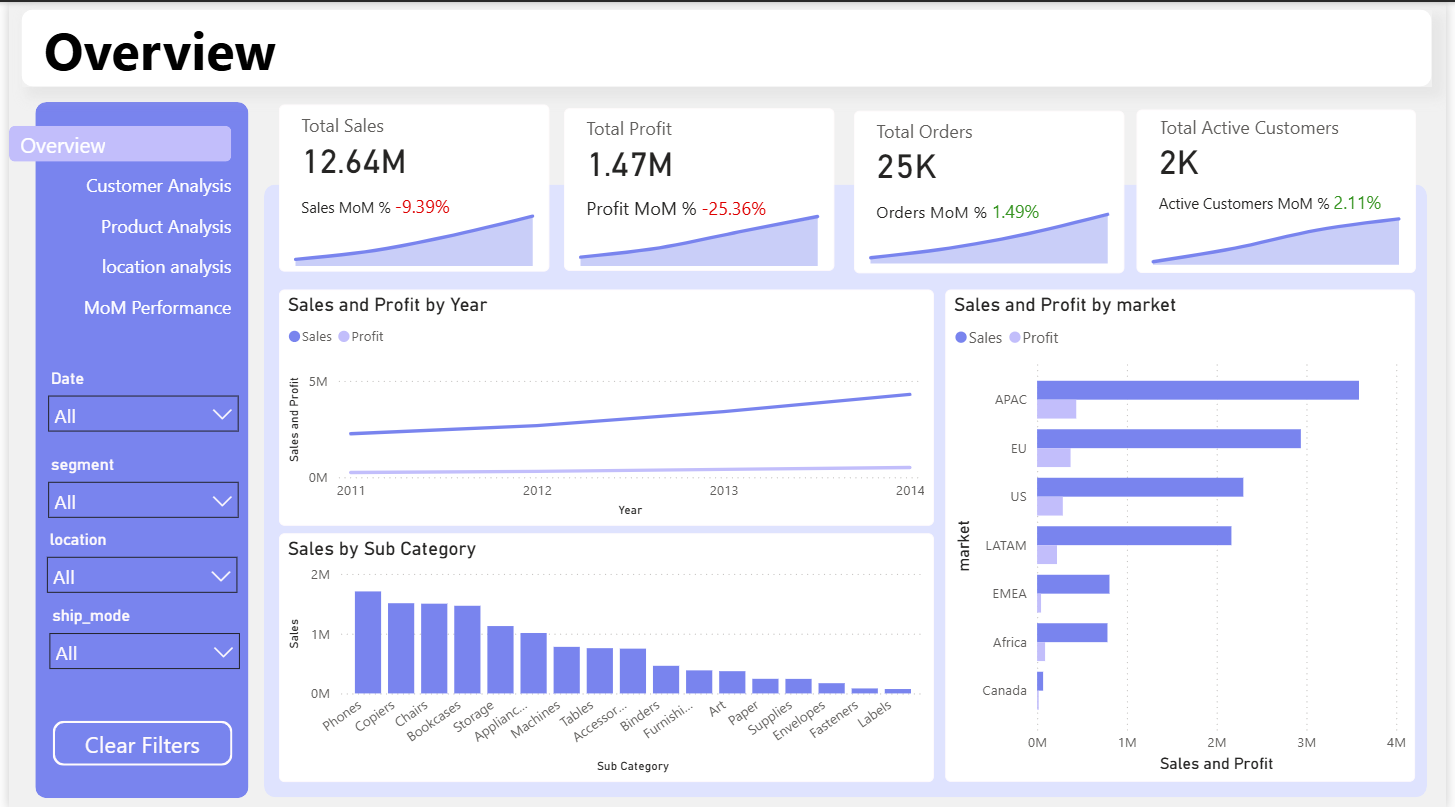

This screenshot's page, from the dashboard's own definition file:
{"tool":"powerbi","page":{"name":"Overview","canvas":[1280,720],"ordinal":0},"visuals":[{"type":"shape","box":[22.9,88.6,190,620],"z":0},{"type":"shape","box":[11.4,7.1,1255.7,68.6],"z":1000},{"type":"shape","box":[227.1,162.9,1035.7,545.7],"z":2000},{"type":"pageNavigator","box":[0,110,198.6,180],"z":3000},{"type":"slicer","fields":{"Values":["dim_customer.segment"]},"box":[24.3,398.6,190,67.1],"z":4000},{"type":"slicer","fields":{"Values":["dim_location.market Hierarchy.market","dim_location.market Hierarchy.country","dim_location.market Hierarchy.region","dim_location.market Hierarchy.state","dim_location.market Hierarchy.city"]},"box":[22.9,465.7,190,67.1],"z":5000},{"type":"slicer","fields":{"Values":["dim_date.Date.Variation.Date Hierarchy.Year","dim_date.Date.Variation.Date Hierarchy.Quarter","dim_date.Date.Variation.Date Hierarchy.Month","dim_date.Date.Variation.Date Hierarchy.Day"]},"box":[24.3,321.4,190,75.7],"z":6000},{"type":"actionButton","box":[38.6,640,160,40],"z":7000},{"type":"group","id":"g1","title":"Group 1","box":[240,91.1,241.1,148.9],"z":8000},{"type":"cardVisual","fields":{"Data":["_measure.total_sales"]},"box":[240,91.1,241.1,148.9],"z":8000,"group":"g1"},{"type":"group","id":"g2","title":"Group 3","box":[494.3,94.3,241.3,145.7],"z":9000},{"type":"cardVisual","fields":{"Data":["_measure.total_orders"]},"box":[752.7,96.4,241.1,144.4],"z":9000,"group":"g3"},{"type":"cardVisual","fields":{"Data":["_measure.total_active_customers"]},"box":[1004.5,95.5,248.9,145.6],"z":10000,"group":"g4"},{"type":"group","id":"g3","title":"Group 2","box":[752.7,96.4,241.2,144.4],"z":10000},{"type":"group","id":"g4","title":"Group 4","box":[1004.5,95.5,248.9,145.6],"z":11000},{"type":"areaChart","fields":{"Category":["dim_date.Date.Variation.Date Hierarchy.Year","dim_date.Date.Variation.Date Hierarchy.Month"],"Y":["_measure.total_sales"]},"box":[240,163.3,241.1,76.7],"z":11000,"group":"g1"},{"type":"areaChart","fields":{"Category":["dim_date.Date.Variation.Date Hierarchy.Year","dim_date.Date.Variation.Date Hierarchy.Month"],"Y":["_measure.total_orders"]},"box":[752.8,161.5,241.1,76.7],"z":12000,"group":"g3"},{"type":"clusteredBarChart","fields":{"Category":["dim_location.market Hierarchy.market","dim_location.market Hierarchy.country","dim_location.market Hierarchy.region","dim_location.market Hierarchy.state","dim_location.market Hierarchy.city"],"Y":["_measure.total_sales","_measure.total_profit"]},"box":[834.3,255.7,418.6,438.6],"z":12000},{"type":"areaChart","fields":{"Category":["dim_date.Date.Variation.Date Hierarchy.Year","dim_date.Date.Variation.Date Hierarchy.Month"],"Y":["_measure.total_active_customers"]},"box":[1004.5,162.8,248.9,76.7],"z":13000,"group":"g4"},{"type":"lineChart","fields":{"Category":["dim_date.Date.Variation.Date Hierarchy.Year","dim_date.Date.Variation.Date Hierarchy.Quarter","dim_date.Date.Variation.Date Hierarchy.Month","dim_date.Date.Variation.Date Hierarchy.Day"],"Y":["_measure.total_sales","_measure.total_profit"]},"box":[240,255.7,582.9,210],"z":13000},{"type":"cardVisual","fields":{"Data":["_measure.total_profit"]},"box":[494.3,94.3,241.1,144.4],"z":14000,"group":"g2"},{"type":"clusteredColumnChart","fields":{"Category":["dim_product.sub_category"],"Y":["_measure.total_sales"]},"box":[240,472.9,582.9,221.4],"z":14000},{"type":"areaChart","fields":{"Category":["dim_date.Date.Variation.Date Hierarchy.Year","dim_date.Date.Variation.Date Hierarchy.Month"],"Y":["_measure.total_profit"]},"box":[494.5,163.3,241.1,76.7],"z":15000,"group":"g2"},{"type":"slicer","fields":{"Values":["dim_order_details.ship_mode"]},"box":[25.7,532.9,190,71.4],"z":15000}]}

Visuals, with their boxes in screenshot pixels (x1, y1, x2, y2), scaled from the page's 1280x720 canvas onto the 1455x807 screenshot:
shape: 26/99/242/794
shape: 13/8/1440/85
shape: 258/183/1435/794
pageNavigator: 0/123/226/325
slicer - dim_customer.segment: 28/447/244/522
slicer - dim_location.market Hierarchy.market x dim_location.market Hierarchy.country: 26/522/242/597
slicer - dim_date.Date.Variation.Date Hierarchy.Year x dim_date.Date.Variation.Date Hierarchy.Quarter: 28/360/244/445
actionButton: 44/717/226/762
"Group 1" group: 273/102/547/269
cardVisual - _measure.total_sales: 273/102/547/269
"Group 3" group: 562/106/836/269
cardVisual - _measure.total_orders: 856/108/1130/270
cardVisual - _measure.total_active_customers: 1142/107/1425/270
"Group 2" group: 856/108/1130/270
"Group 4" group: 1142/107/1425/270
areaChart - dim_date.Date.Variation.Date Hierarchy.Year x dim_date.Date.Variation.Date Hierarchy.Month: 273/183/547/269
areaChart - dim_date.Date.Variation.Date Hierarchy.Year x dim_date.Date.Variation.Date Hierarchy.Month: 856/181/1130/267
clusteredBarChart - dim_location.market Hierarchy.market x dim_location.market Hierarchy.country: 948/287/1424/778
areaChart - dim_date.Date.Variation.Date Hierarchy.Year x dim_date.Date.Variation.Date Hierarchy.Month: 1142/182/1425/268
lineChart - dim_date.Date.Variation.Date Hierarchy.Year x dim_date.Date.Variation.Date Hierarchy.Quarter: 273/287/935/522
cardVisual - _measure.total_profit: 562/106/836/268
clusteredColumnChart - dim_product.sub_category x _measure.total_sales: 273/530/935/778
areaChart - dim_date.Date.Variation.Date Hierarchy.Year x dim_date.Date.Variation.Date Hierarchy.Month: 562/183/836/269
slicer - dim_order_details.ship_mode: 29/597/245/677
